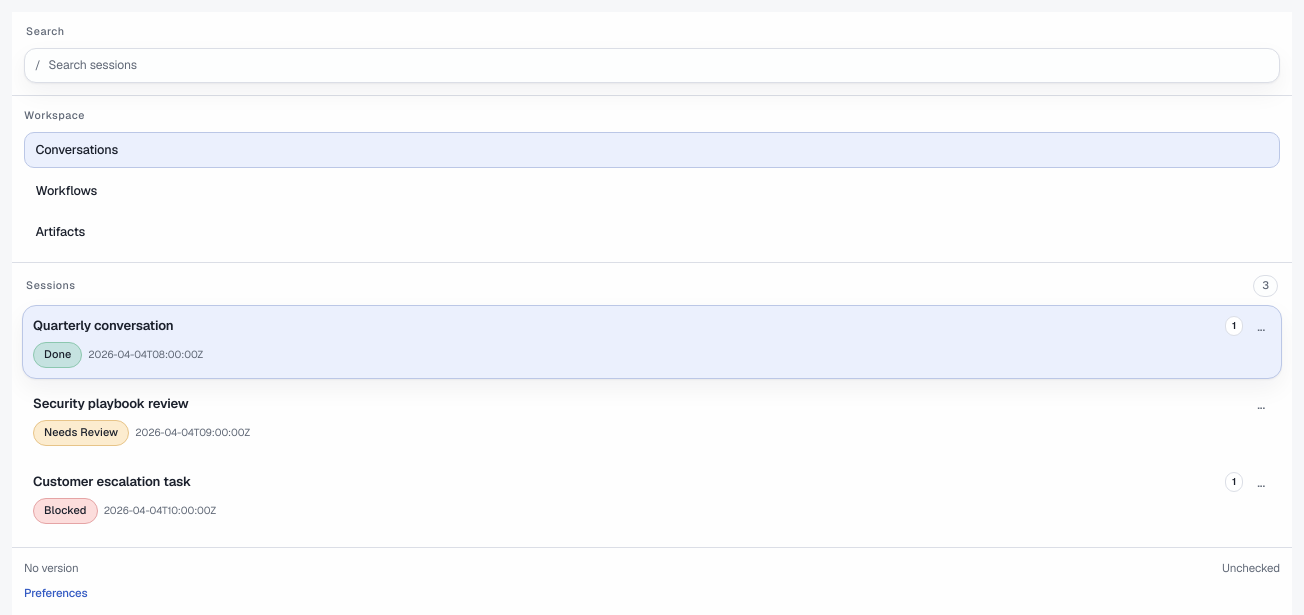
Test: UserConsoleSidebar › archives the active session from the sidebar actions
This screenshot has width=1304, height=615.
Expected: the text "Quarterly conversation" is shown, [33,317,174,334]
Click the button named "more actions for quarterly conversation". click: (1261, 327)
box: [1251,316,1271,337]
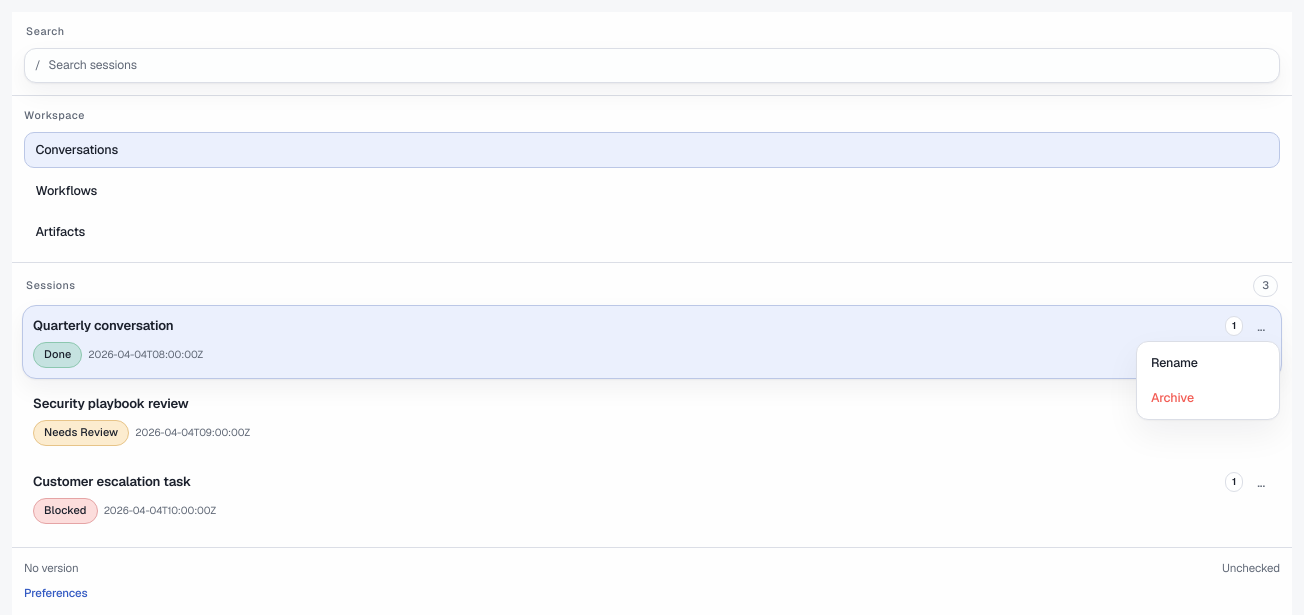
Click the menu item "Archive". click: (1208, 398)
box: [1141,380,1275,415]
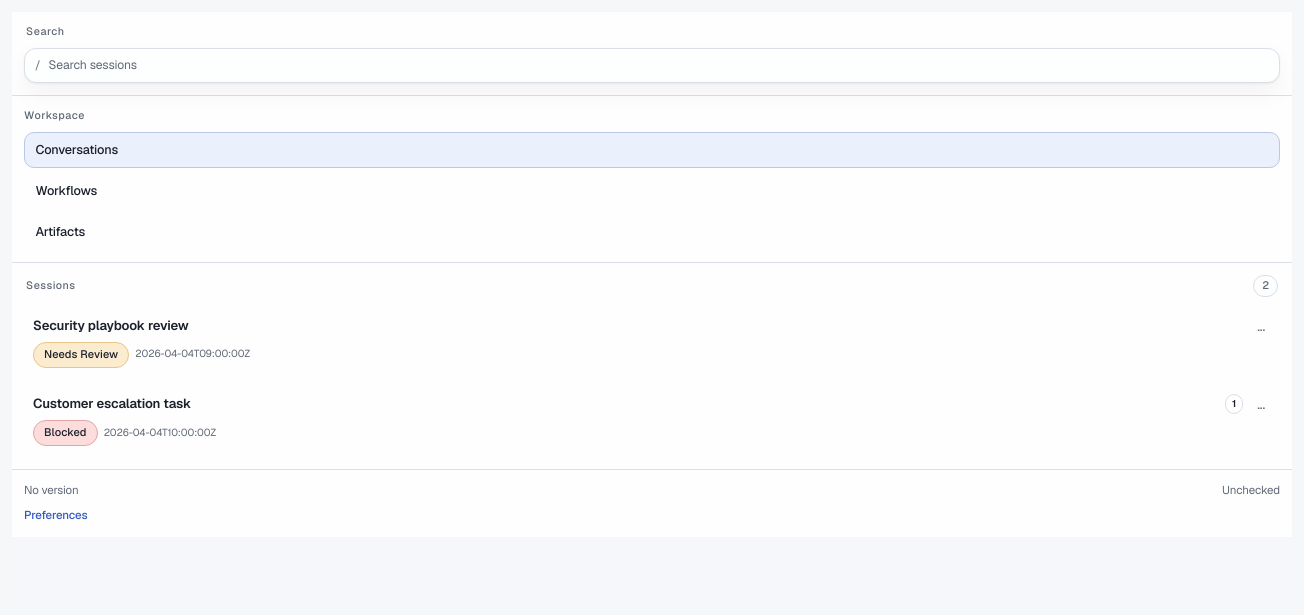
Expected: the link "Quarterly conversation" is gone
